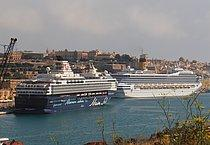Ship: (6, 59, 122, 116), (109, 65, 207, 102)
